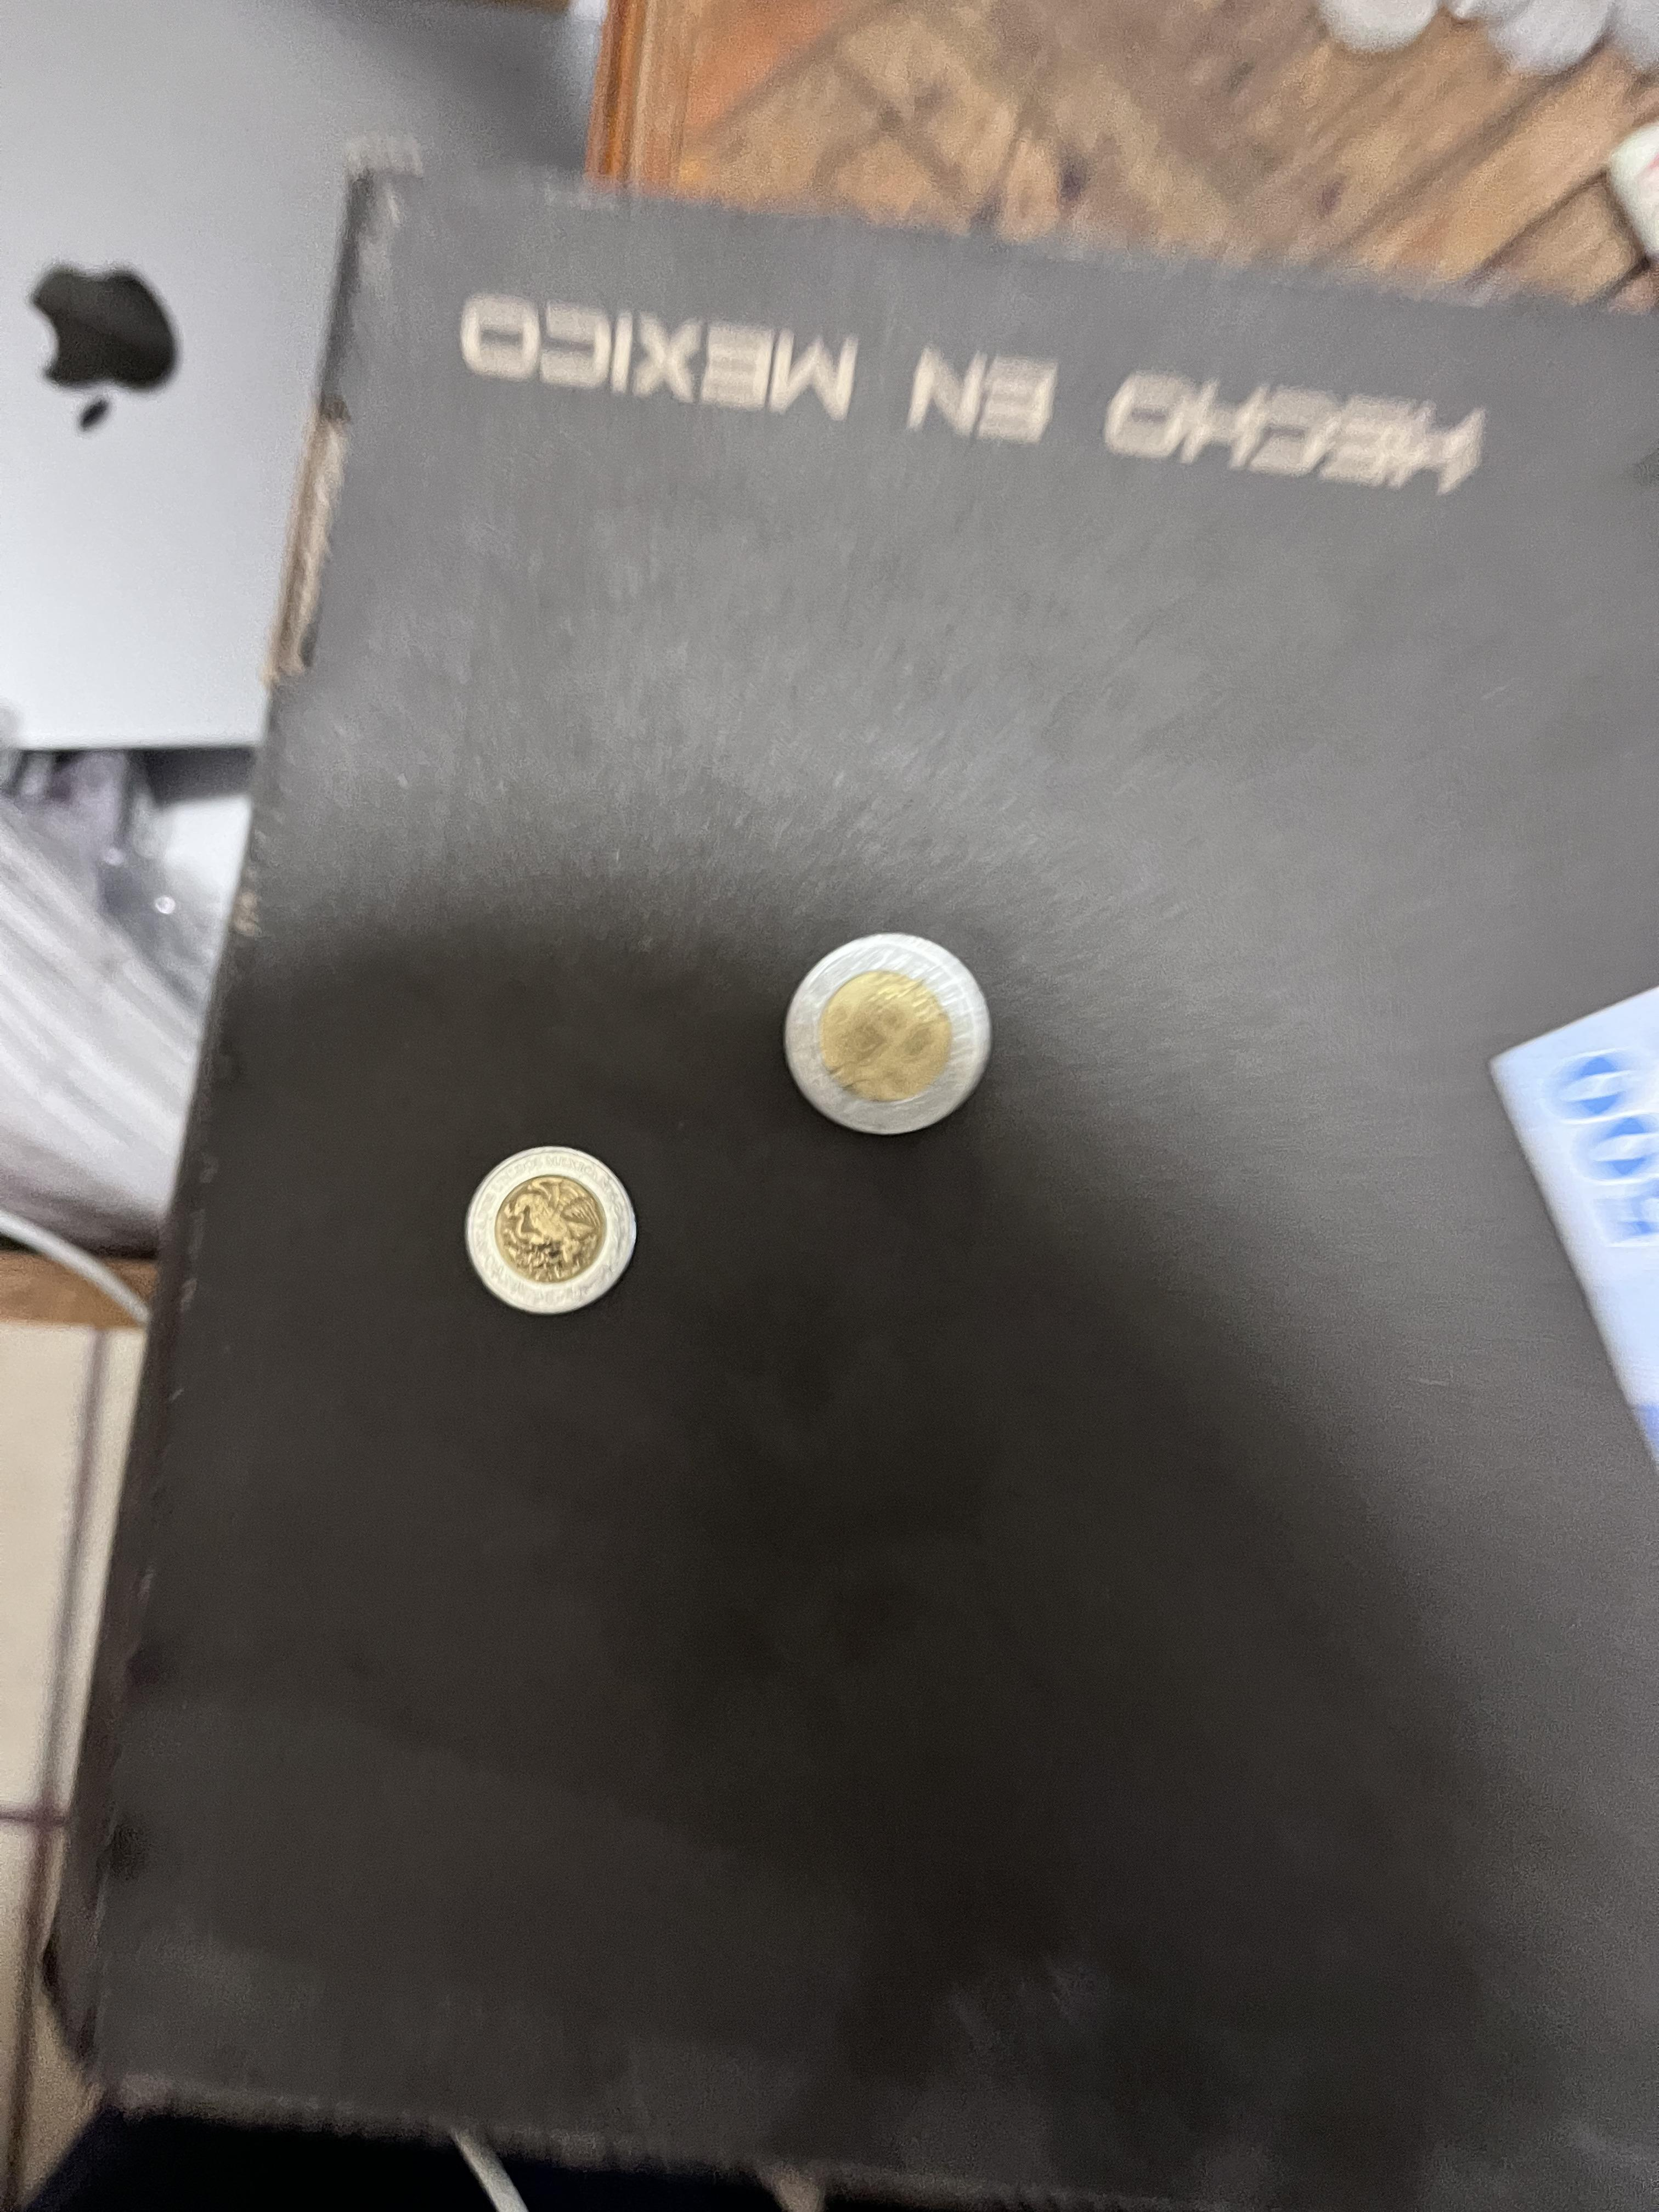1: (430, 1130, 662, 1331)
5: (765, 916, 1025, 1160)
500 nuevo: (1438, 939, 1659, 1505)
